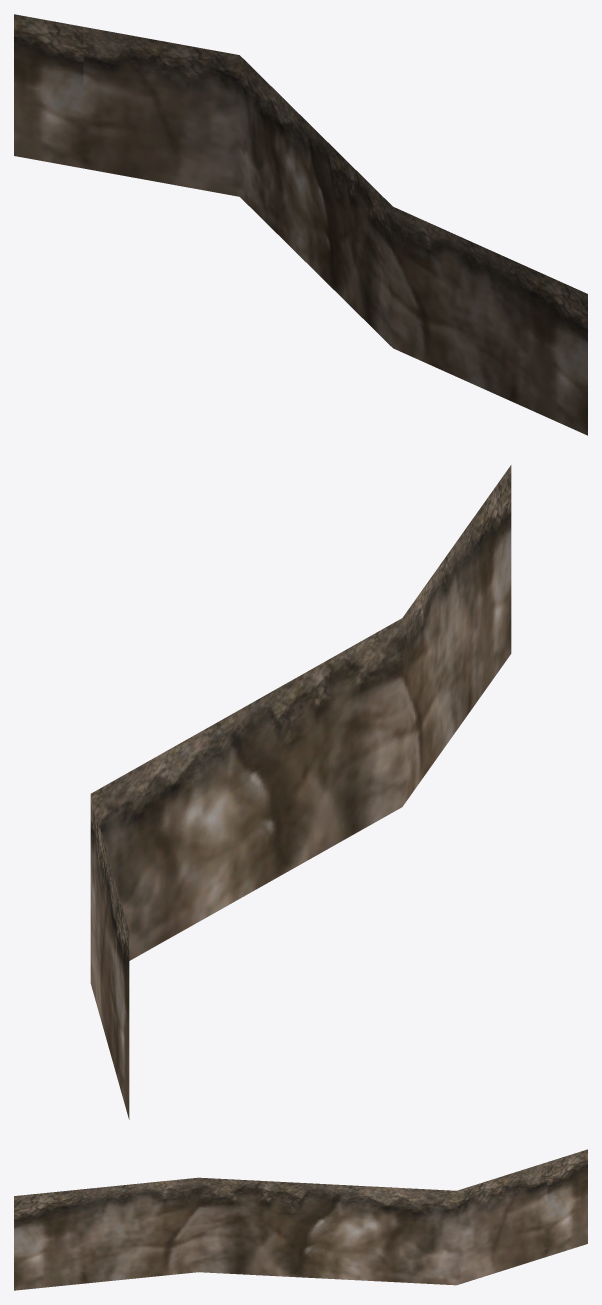
The model's file is OVERHILL_A_01_LINE41.fbx.
The picture shows the model from 3 angles, top to bottom: view 1: azimuth 30°, elevation 25°; view 2: azimuth 150°, elevation 25°; view 3: azimuth 270°, elevation 25°; orthographic projection. The views are drawn at different scales.
Visible parts, largest first — view 1: OVERHILL_A_01_LINE41; view 2: OVERHILL_A_01_LINE41; view 3: OVERHILL_A_01_LINE41.
Part boxes in pixels (x1=…): OVERHILL_A_01_LINE41: x1=14, y1=14, x2=587, y2=435; OVERHILL_A_01_LINE41: x1=90, y1=465, x2=511, y2=1119; OVERHILL_A_01_LINE41: x1=14, y1=1149, x2=587, y2=1290.
Bounding box in the file's own units: 3450 × 3250 × 17880.
Materials: 1 (1 with a texture image).
